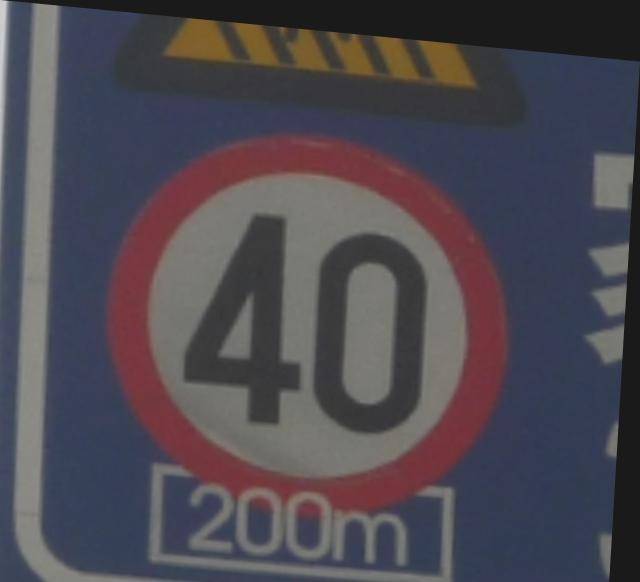limit40: (89, 101, 538, 531)
